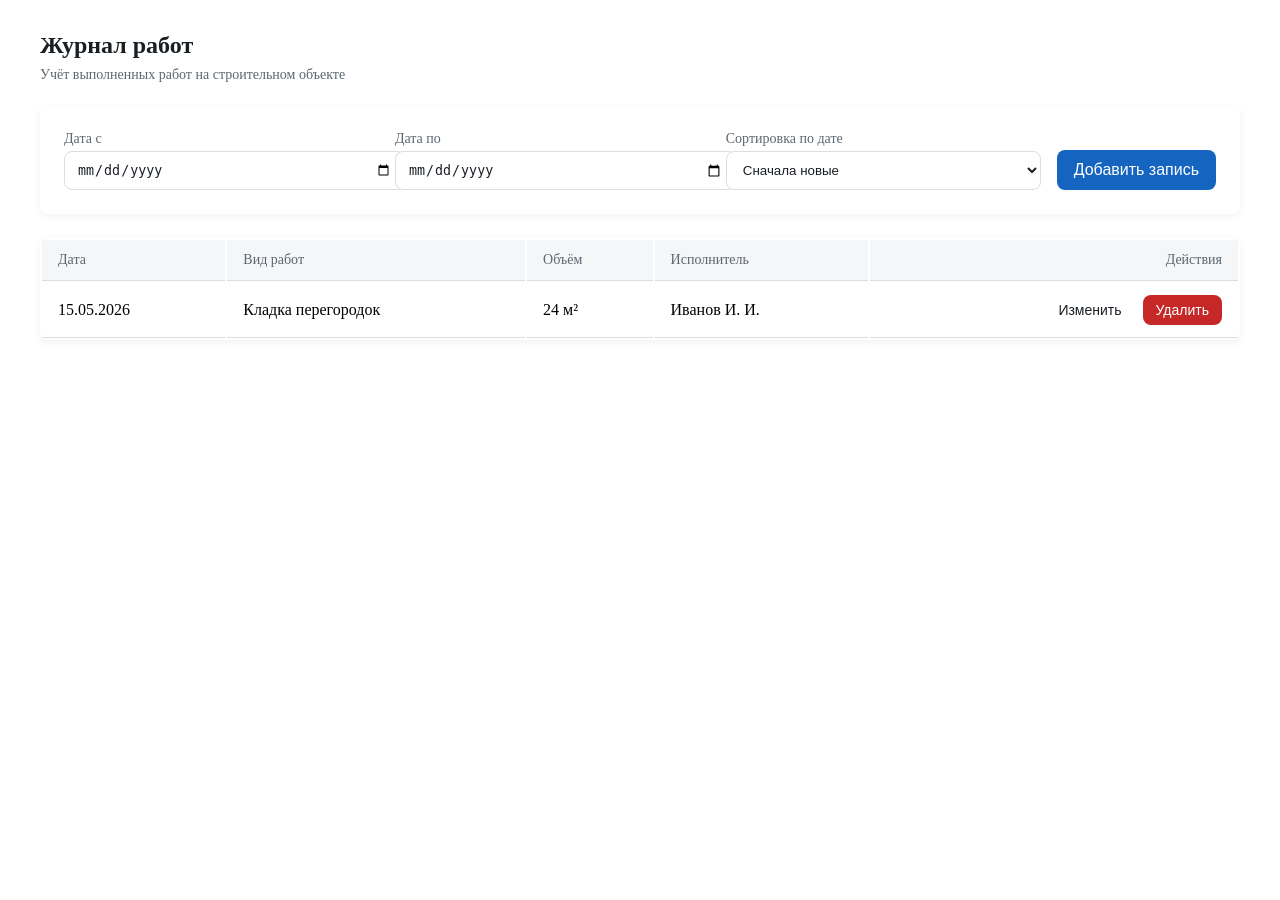
Scenario: WorkLogPage › shows form error when create mutation fails
This screenshot has width=1280, height=900.
Click the button "Добавить запись" at (1136, 170), box [1057,150,1216,190]
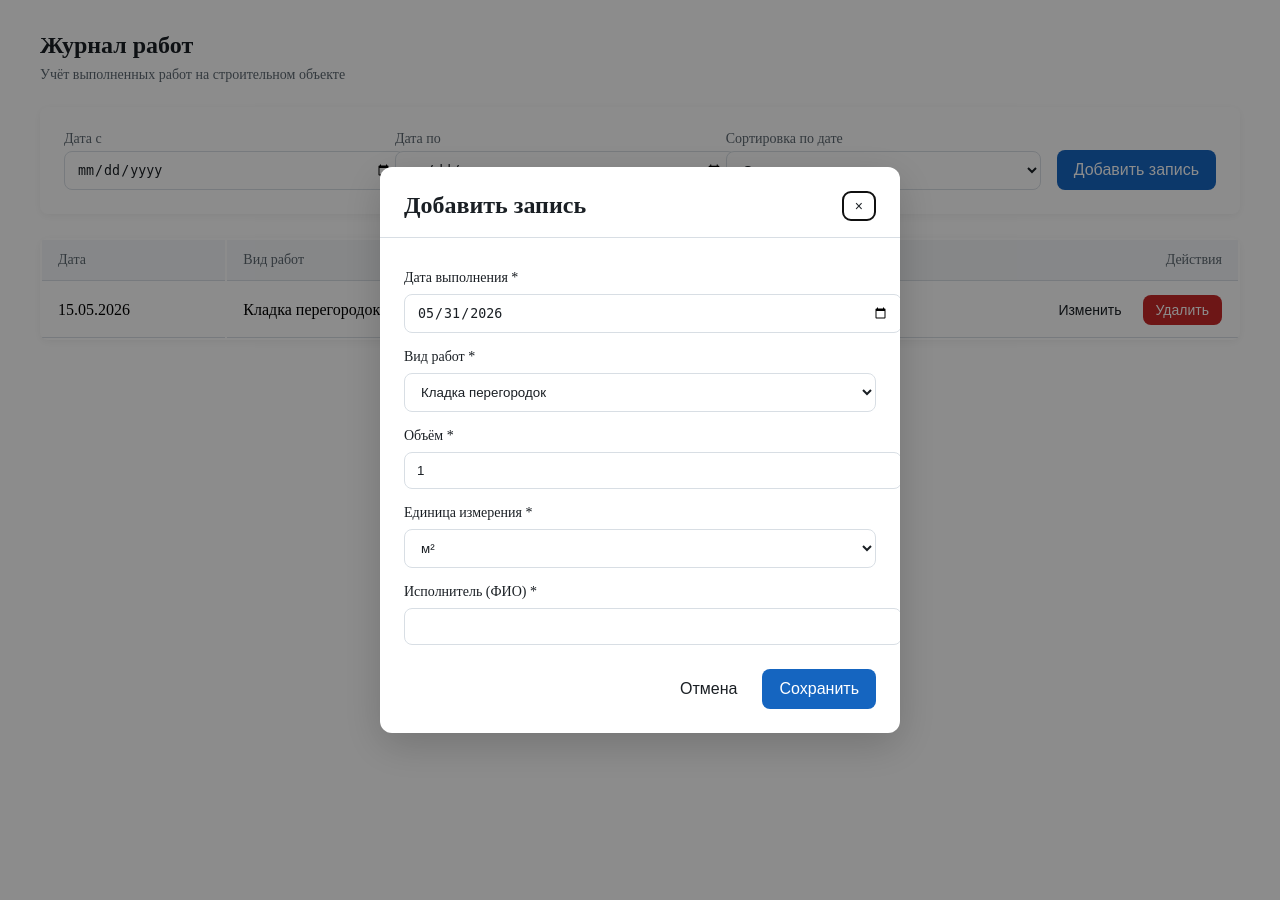
Type "Тестов Т.Т." into the field labelled "Исполнитель (ФИО) *" at (653, 627), box [404,608,902,645]
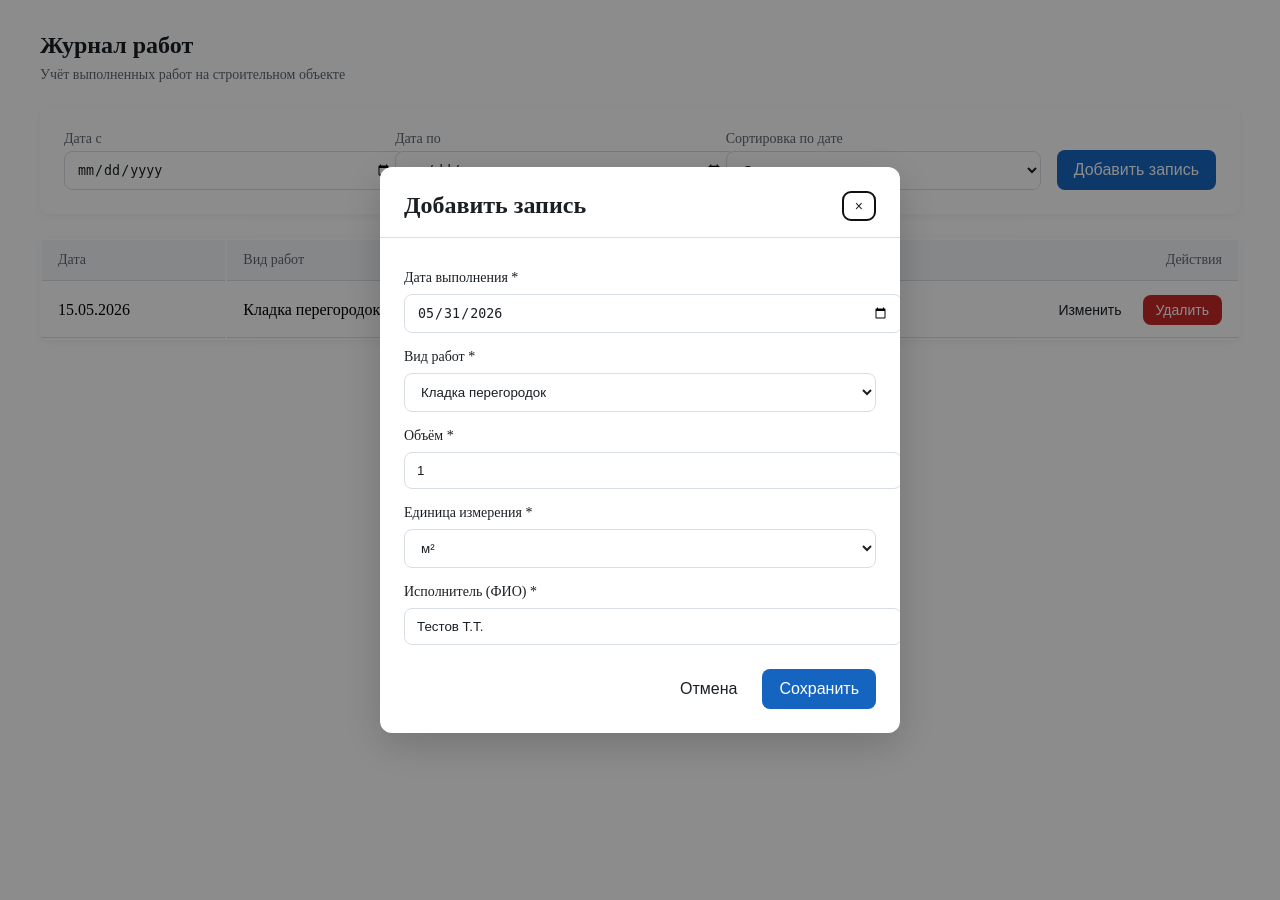
Submit the form, box [404,270,876,709]
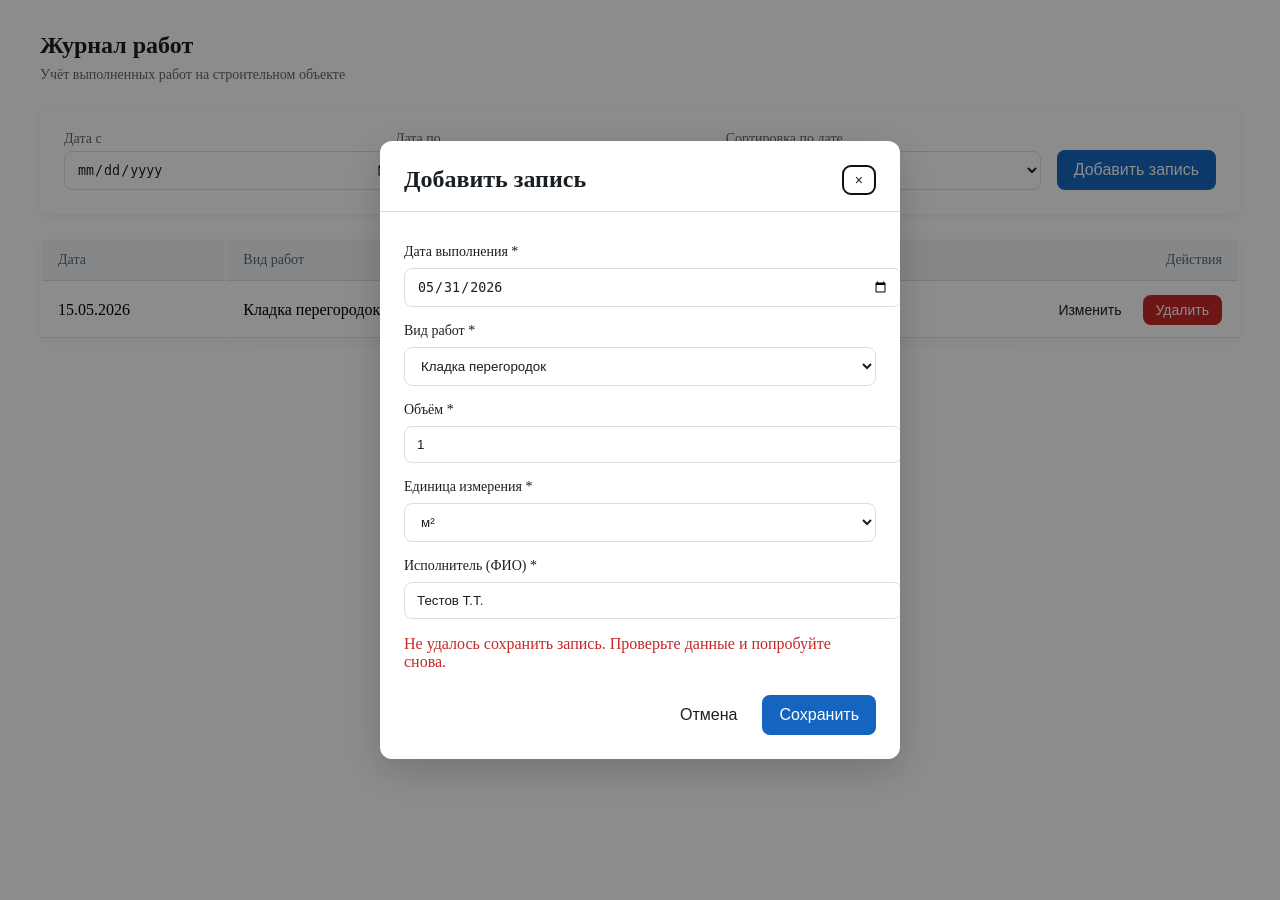
Expected: the dialog is shown, [380,141,900,759]
Expected: the text "Не удалось сохранить запись. Проверьте данные и попробуйте снова." is shown, [404,635,876,671]
